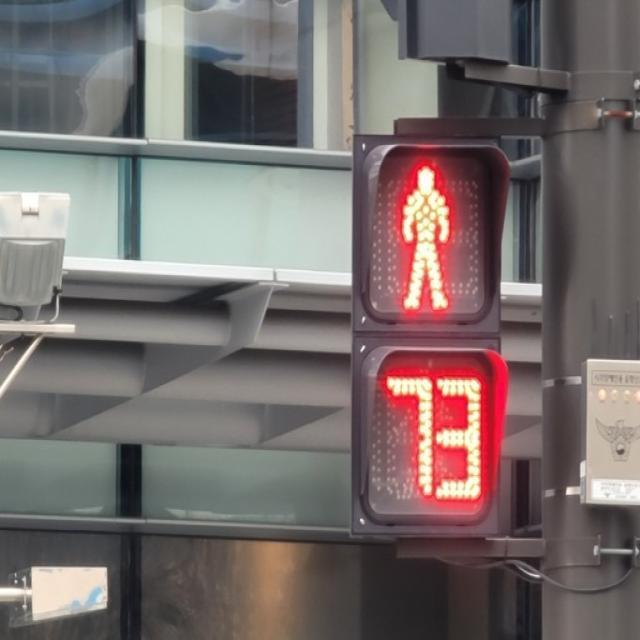red_light: (378, 160, 490, 510)
